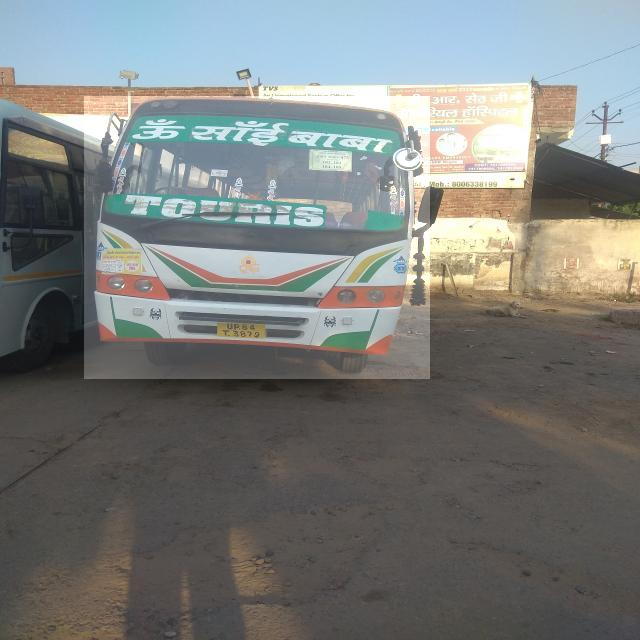Bus: (84, 96, 430, 379)
